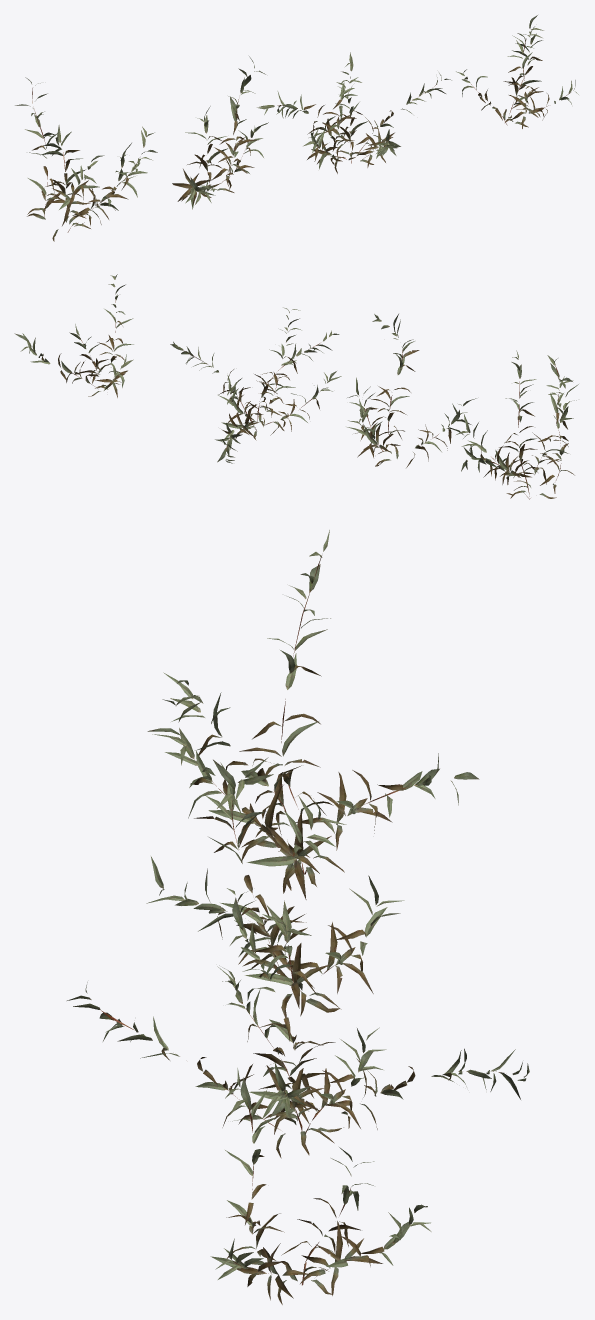
The picture shows the model from 3 angles, top to bottom: view 1: azimuth 30°, elevation 25°; view 2: azimuth 150°, elevation 25°; view 3: azimuth 270°, elevation 25°; orthographic projection. The views are drawn at different scales.
Parts seen in each view (by area): view 1: shrub_02_a, shrub_02_c, shrub_02_b, shrub_02_d; view 2: shrub_02_a, shrub_02_c, shrub_02_b, shrub_02_d; view 3: shrub_02_a, shrub_02_c, shrub_02_b, shrub_02_d.
Boxes of the visible parts, bbox=[...] form: shrub_02_a: bbox=[15, 77, 157, 241]; shrub_02_c: bbox=[257, 52, 451, 173]; shrub_02_b: bbox=[172, 56, 268, 209]; shrub_02_d: bbox=[456, 15, 578, 128]; shrub_02_a: bbox=[456, 350, 578, 499]; shrub_02_c: bbox=[170, 307, 341, 463]; shrub_02_b: bbox=[347, 314, 476, 467]; shrub_02_d: bbox=[14, 274, 133, 397]; shrub_02_a: bbox=[147, 530, 479, 899]; shrub_02_c: bbox=[67, 888, 529, 1158]; shrub_02_b: bbox=[146, 757, 404, 1017]; shrub_02_d: bbox=[210, 1068, 431, 1304].
Bounding box in the file's own units: 6.05 × 1.7 × 2.28.
Materials: 1 (1 with a texture image).
